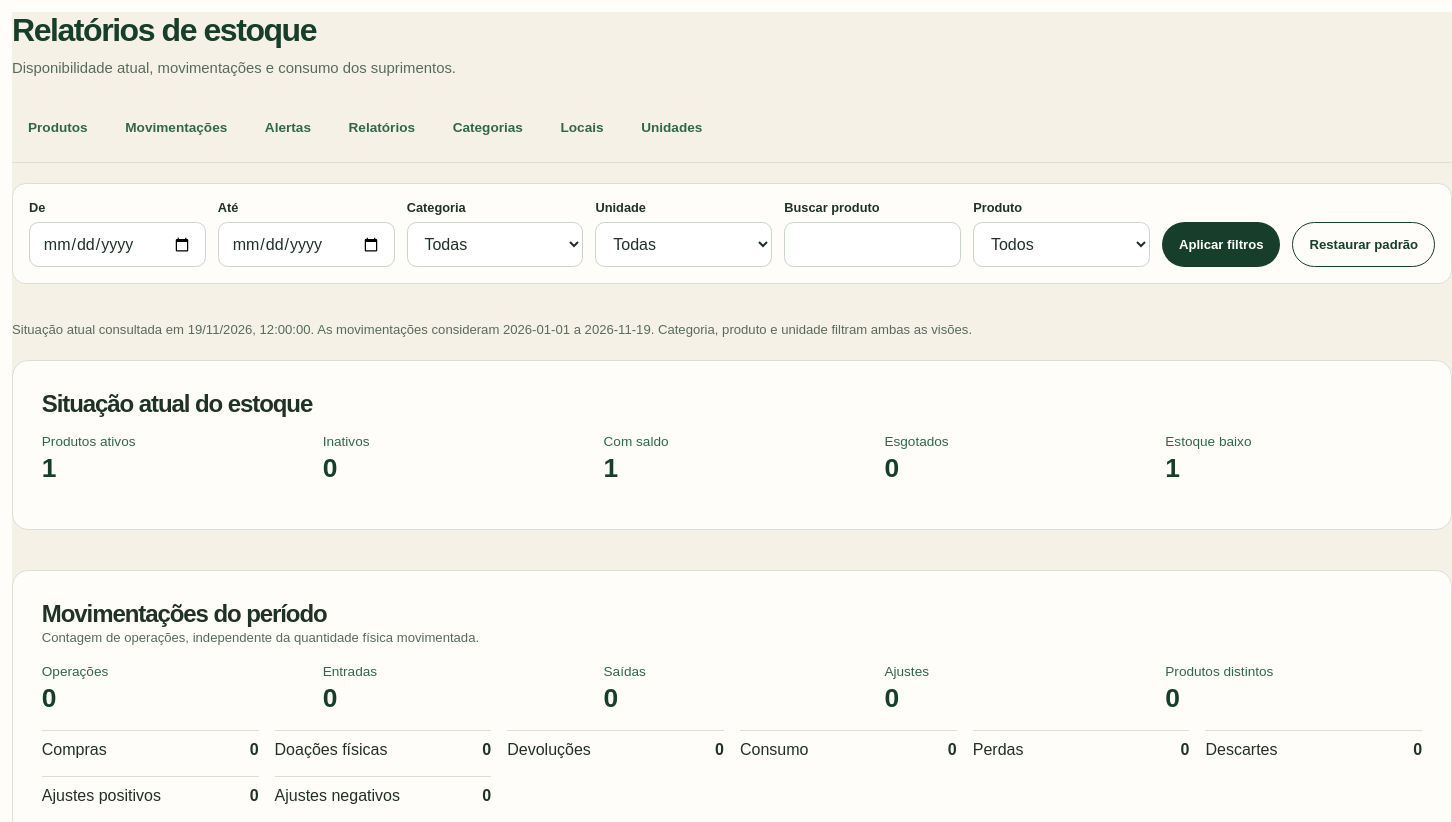
Test: InventoryReports › rejects inverted dates before making another request
The width and height of the screenshot is (1452, 822).
Expected: the heading "Situação atual do estoque" is shown, [42, 390, 312, 417]
Type "2026-11-20" into the date field labelled "De". click: x=117, y=245
box: [29, 222, 206, 267]
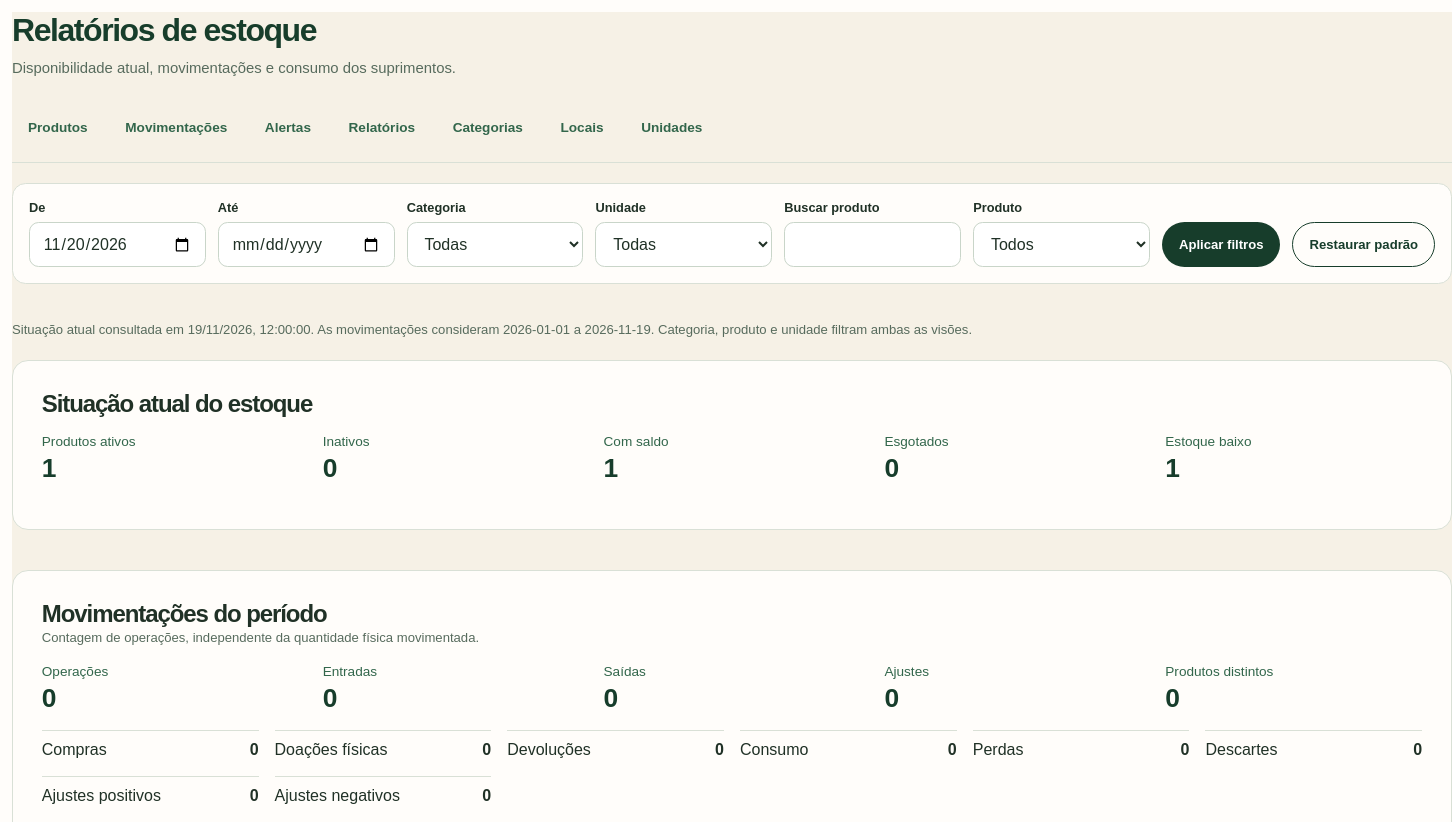
Type "2026-11-19" into the date field labelled "Até". click: x=306, y=245
box: [218, 222, 395, 267]
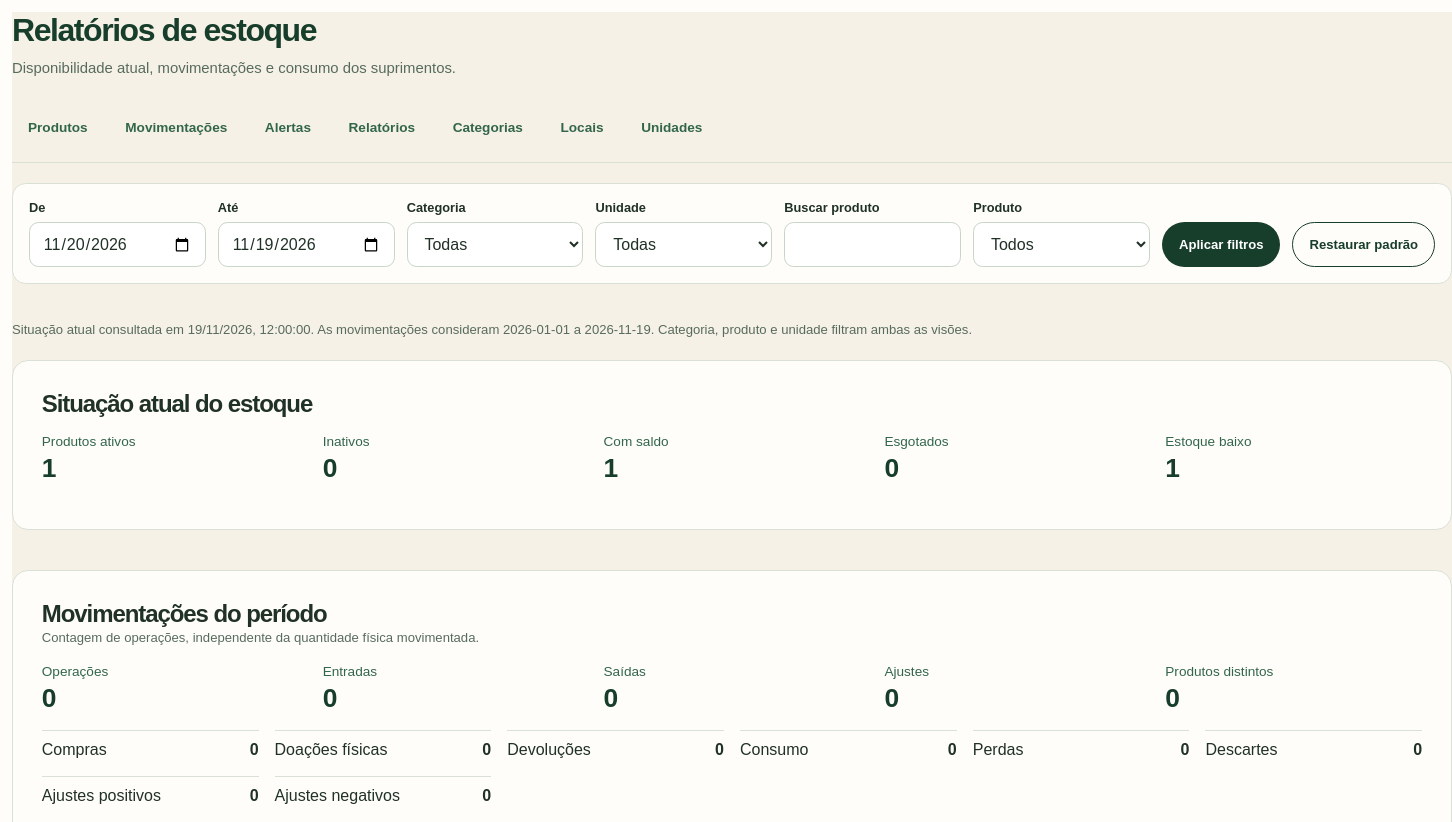
Click the button "Aplicar filtros". click: x=1221, y=245
box: [1162, 222, 1280, 267]
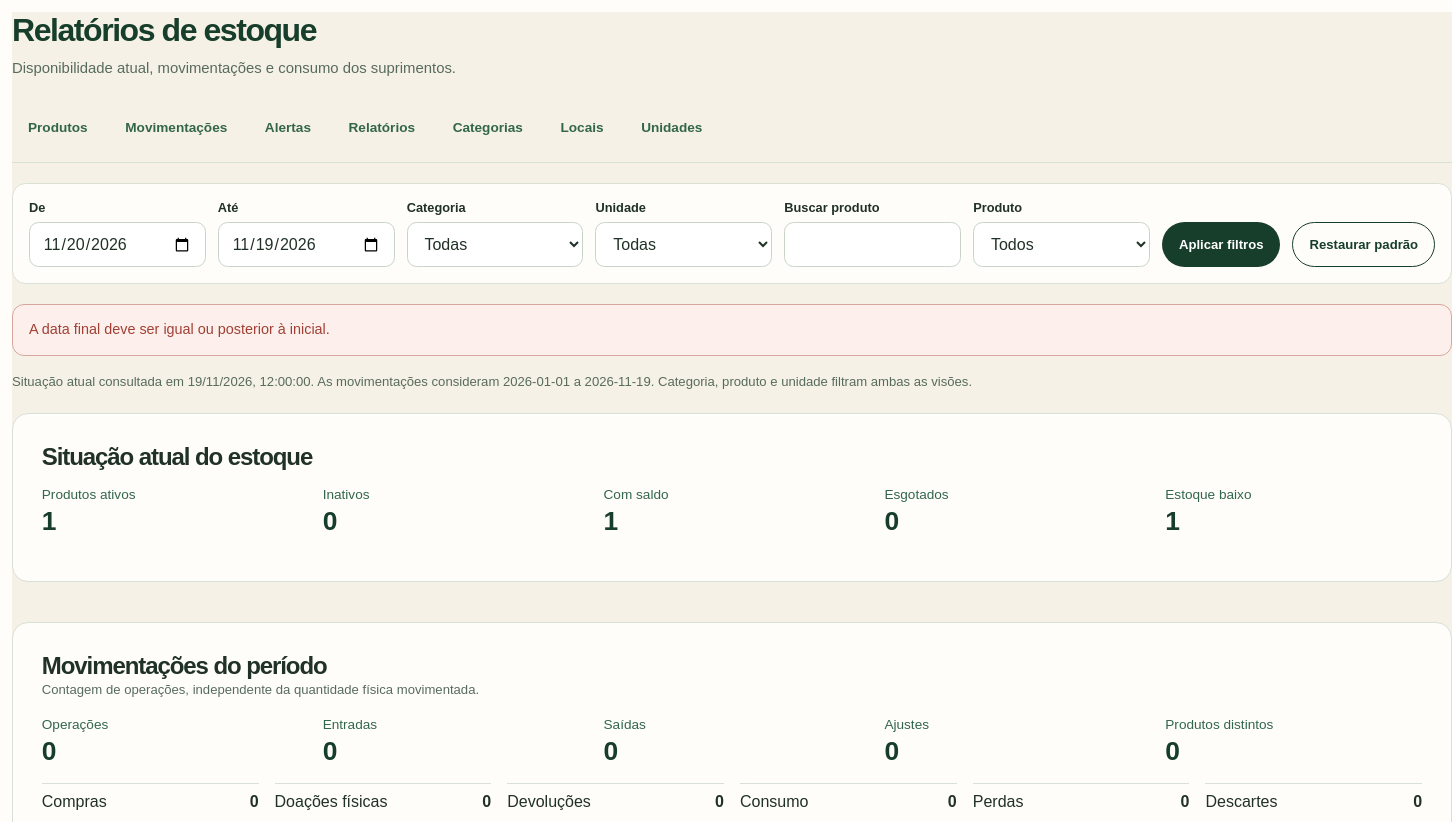
Now the text "A data final deve ser igual ou posterior à inicial." is shown, box [12, 304, 1451, 356]
